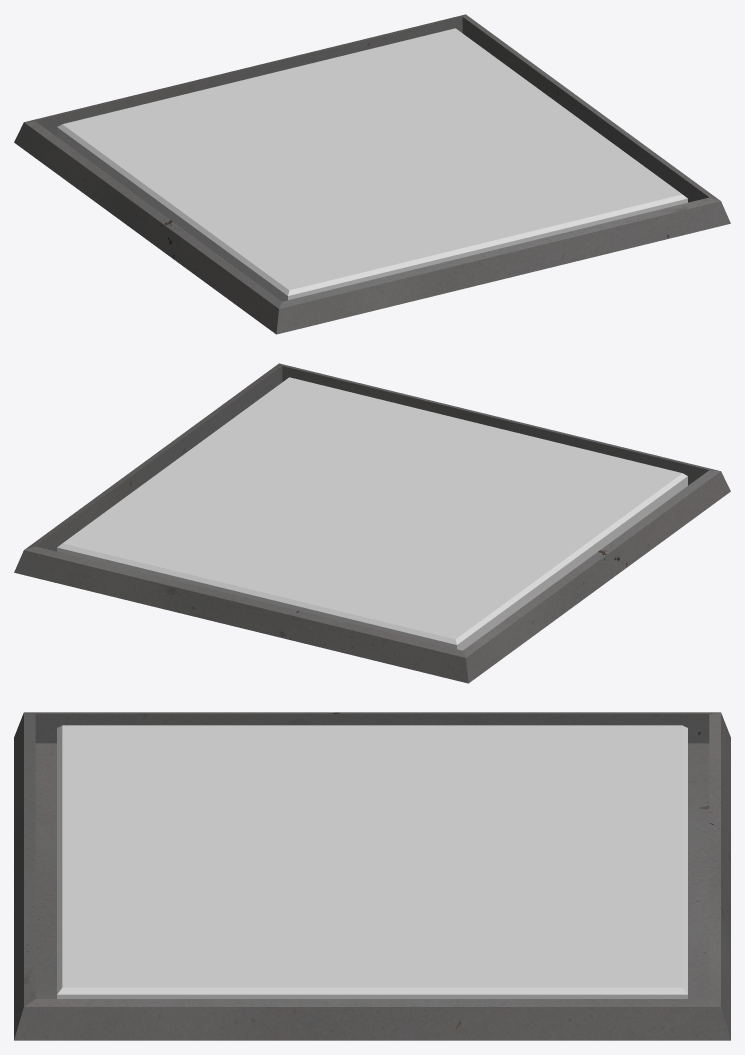
File: CeilingLight_03.fbx
3 views of the same model, one above another, from view 1: azimuth 30°, elevation 25°; view 2: azimuth 150°, elevation 25°; view 3: azimuth 270°, elevation 25° (orthographic). The views are drawn at different scales.
Parts seen in each view (by area): view 1: CeilingLight_SmallSquare; view 2: CeilingLight_SmallSquare; view 3: CeilingLight_SmallSquare.
Boxes of the visible parts, x1=… form: CeilingLight_SmallSquare: x1=14, y1=14, x2=730, y2=334; CeilingLight_SmallSquare: x1=14, y1=363, x2=730, y2=683; CeilingLight_SmallSquare: x1=14, y1=712, x2=730, y2=1040.
Size of the model in its own units: 2 by 0.1 by 2.
